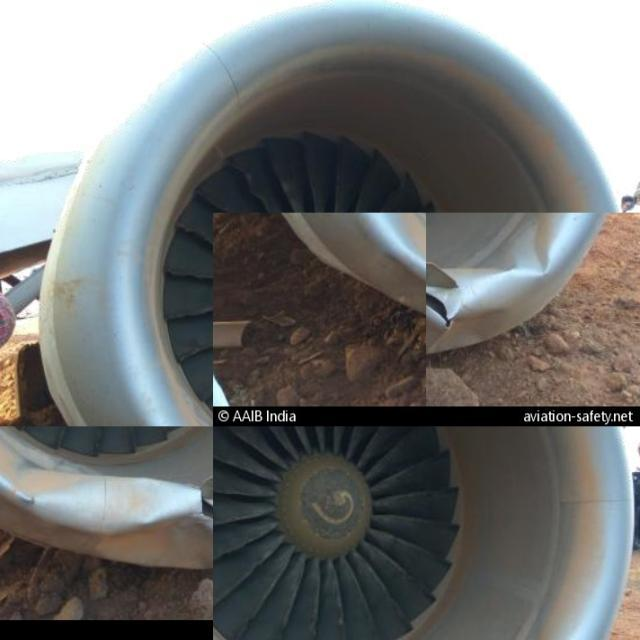crack: (428, 290, 453, 331)
dent: (22, 471, 200, 536), (506, 225, 556, 278), (425, 268, 471, 296)
